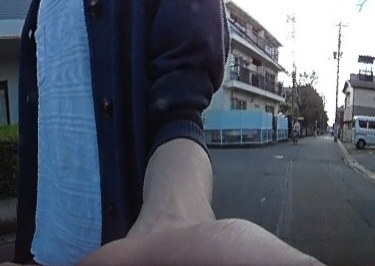person: (292, 120, 300, 141)
